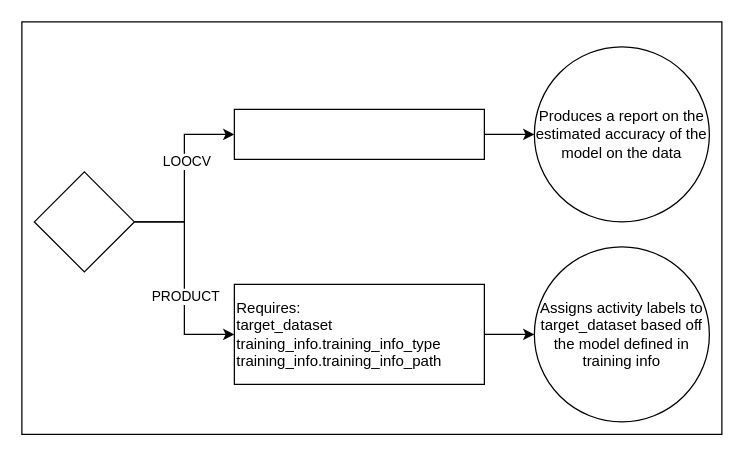
Image size: 744x456. Some labels were removed from this diagram. The box of each missing label's shape, as (x1, y1, x2, y2) in pixels:
mode: (33, 171, 134, 272)
Requires: target_dataset: (233, 108, 484, 159)
